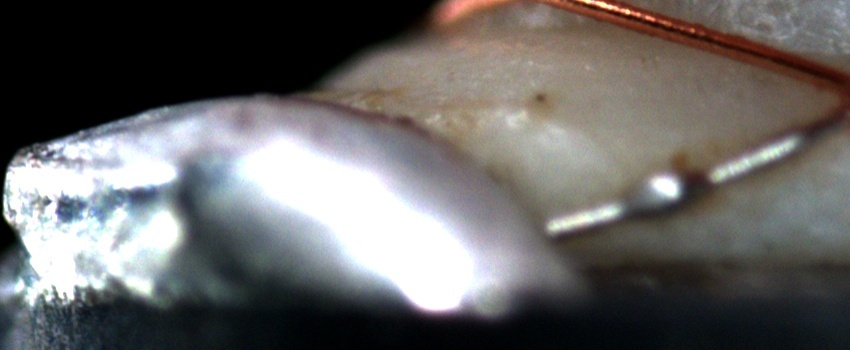TB: (629, 169, 703, 219)
TS: (548, 132, 803, 240)
TTCW: (544, 101, 846, 237)
